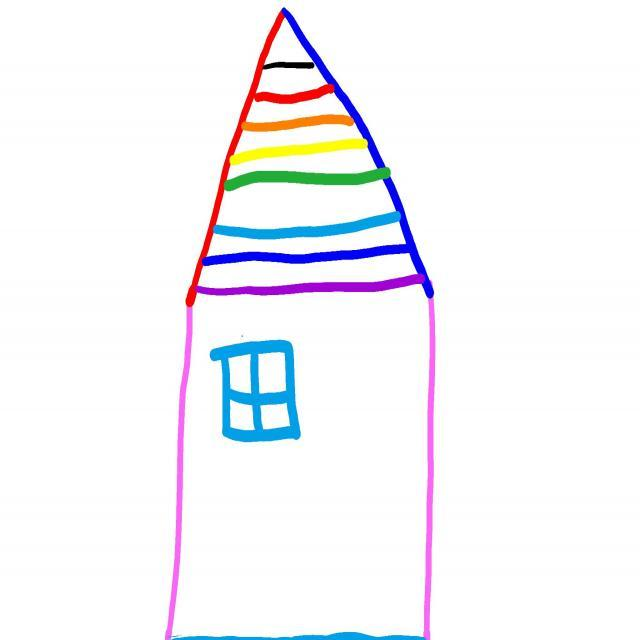house: (166, 8, 435, 640)
roof: (182, 3, 434, 301)
wall: (158, 295, 437, 640)
window: (211, 342, 300, 443)
